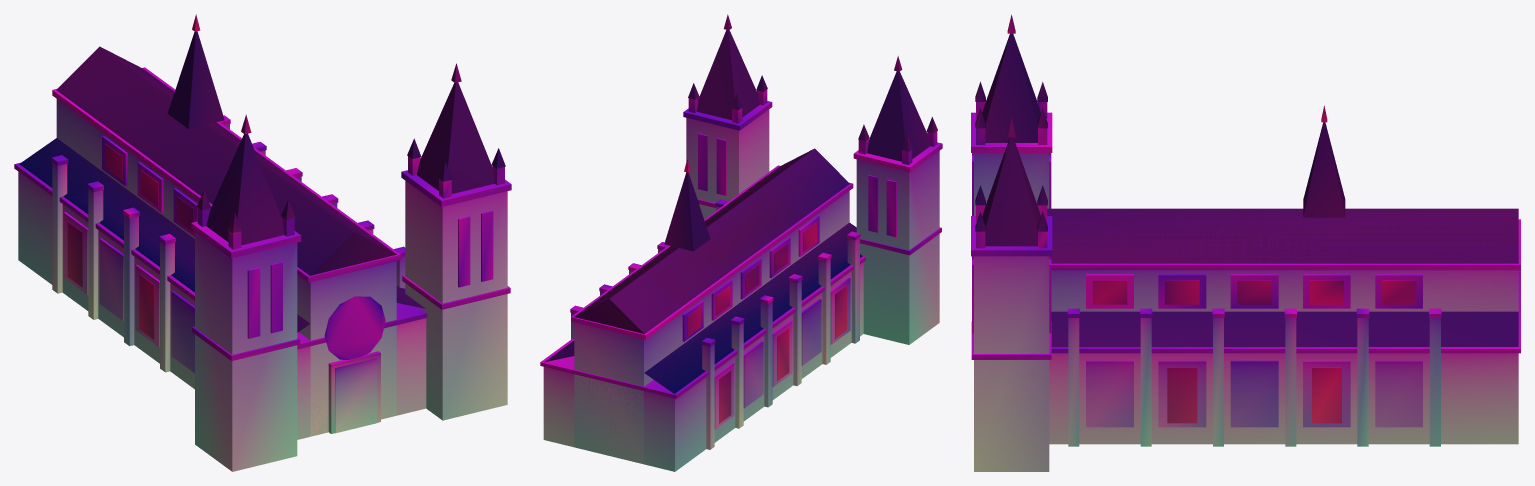
Rendered from cathedral_mass.glb.
The picture shows the model from 3 angles, left to right: view 1: azimuth 30°, elevation 25°; view 2: azimuth 150°, elevation 25°; view 3: azimuth 270°, elevation 25°; orthographic projection. The views are drawn at different scales.
Visible parts, largest first — view 1: cathedral_body, cathedral_roof, cathedral_dark, cathedral_trim, cathedral_windows; view 2: cathedral_body, cathedral_roof, cathedral_trim, cathedral_dark, cathedral_windows; view 3: cathedral_body, cathedral_roof, cathedral_dark, cathedral_trim, cathedral_windows.
Part boxes in pixels (box(x1,y1,x2,y2)): cathedral_body: box(18, 99, 507, 471); cathedral_roof: box(19, 31, 505, 332); cathedral_dark: box(63, 135, 493, 433); cathedral_trim: box(14, 67, 511, 433); cathedral_windows: box(67, 143, 193, 339); cathedral_body: box(543, 109, 939, 471); cathedral_roof: box(544, 30, 937, 393); cathedral_trim: box(540, 89, 942, 398); cathedral_dark: box(682, 133, 896, 429); cathedral_windows: box(687, 222, 847, 423); cathedral_body: box(974, 153, 1518, 471); cathedral_roof: box(975, 33, 1518, 346); cathedral_dark: box(972, 153, 1422, 427); cathedral_trim: box(971, 102, 1520, 359); cathedral_windows: box(1092, 280, 1416, 423).
Bounding box in the file's own units: 29.3 × 33.6 × 49.45.
